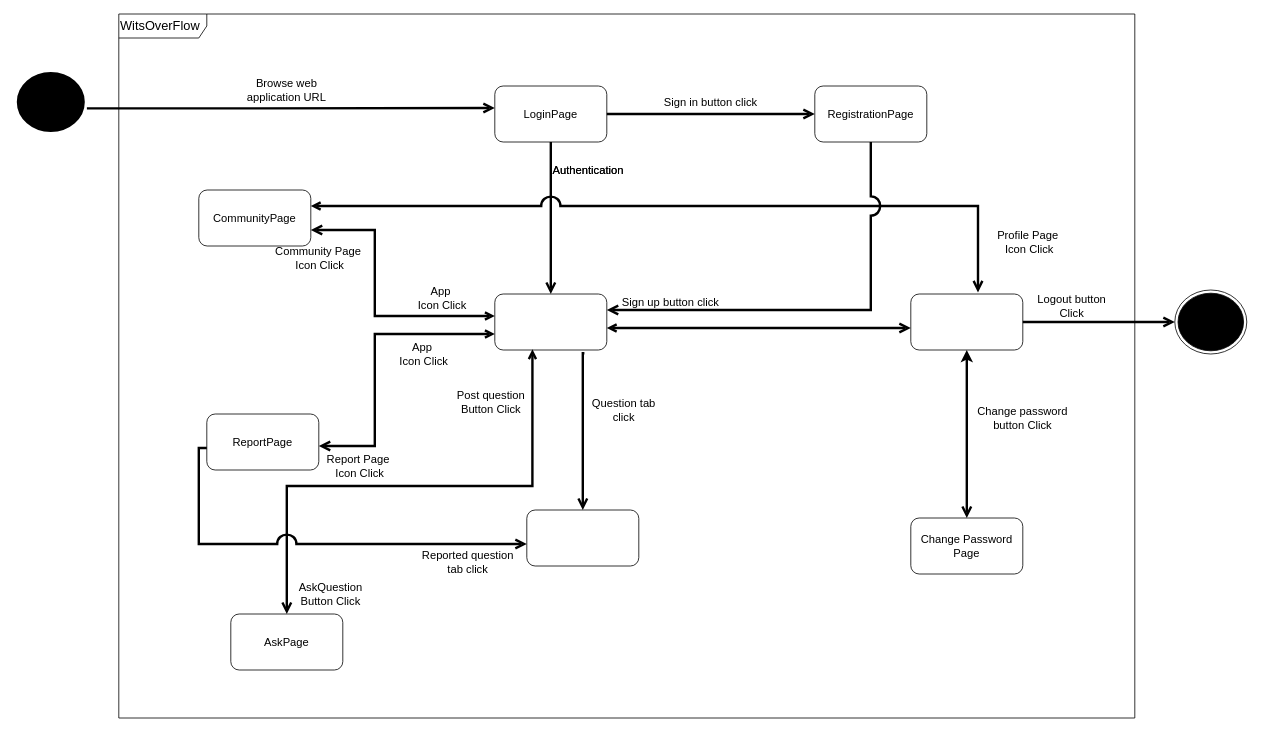
Some shapes in this 1261 by 732 pixel diagram are drawn without their labels. The shapes that lost their labels are listed below. From the top down, each one's centre as x and y in pixels, then its label:
At point 550,321: "QuestionsPage".
At point 966,321: "ProfilePage".
At point 582,537: "SingleQuestionPage".
